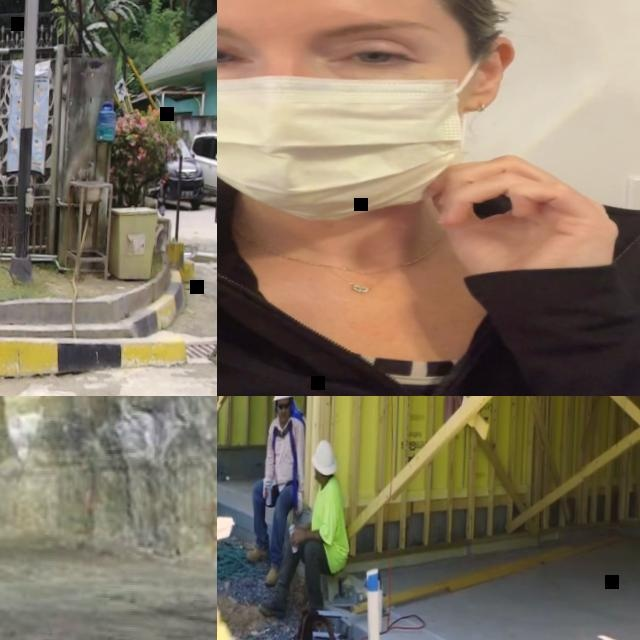Hardhat: (313, 434, 337, 475)
Mask: (217, 61, 459, 210)
NO-Mask: (278, 410, 291, 424), (313, 471, 322, 480)
NO-Safety Vest: (217, 210, 640, 396), (311, 480, 344, 551), (266, 420, 300, 486)
Person: (217, 0, 640, 396), (258, 433, 354, 640), (246, 396, 308, 585)
vehicle: (147, 125, 208, 209), (186, 122, 217, 203)
